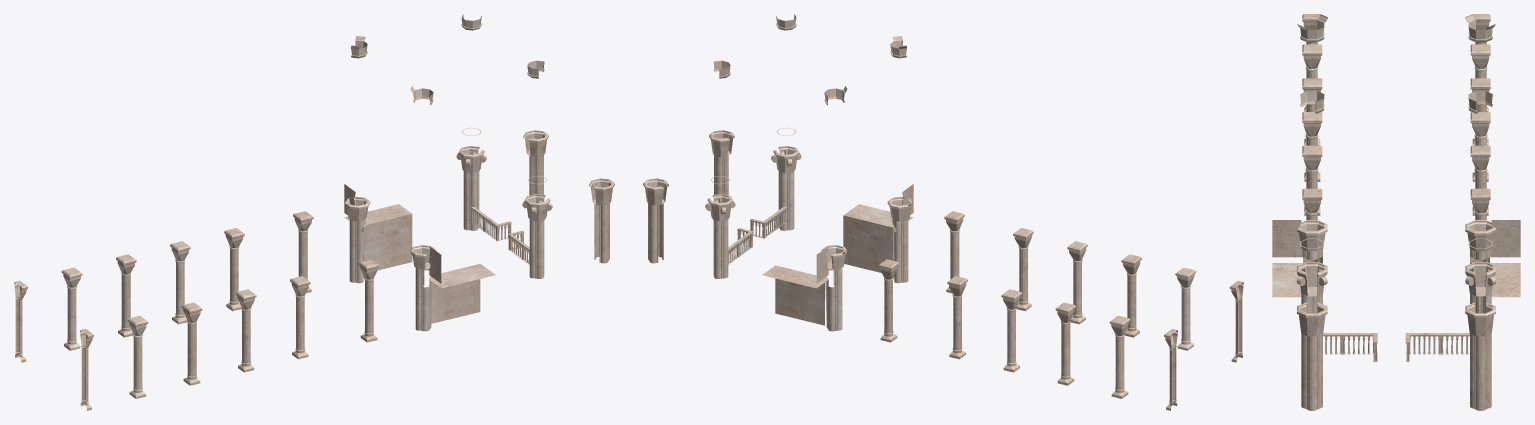
The model's file is stupovi.obj.
The picture shows the model from 3 angles, left to right: view 1: azimuth 30°, elevation 25°; view 2: azimuth 150°, elevation 25°; view 3: azimuth 270°, elevation 25°; orthographic projection. The views are drawn at different scales.
Size of the model in its own units: 36.13 by 15.63 by 11.5.
